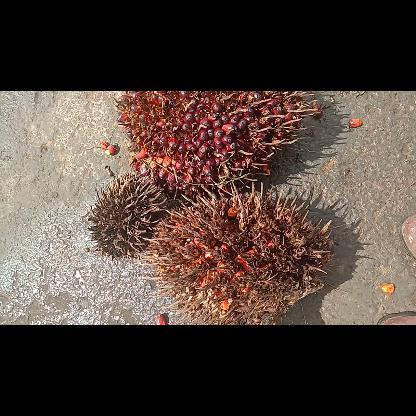Janjang kosong: (87, 172, 171, 260)
TBS masak: (115, 92, 318, 192)
Terlalu masak: (143, 182, 335, 324)
